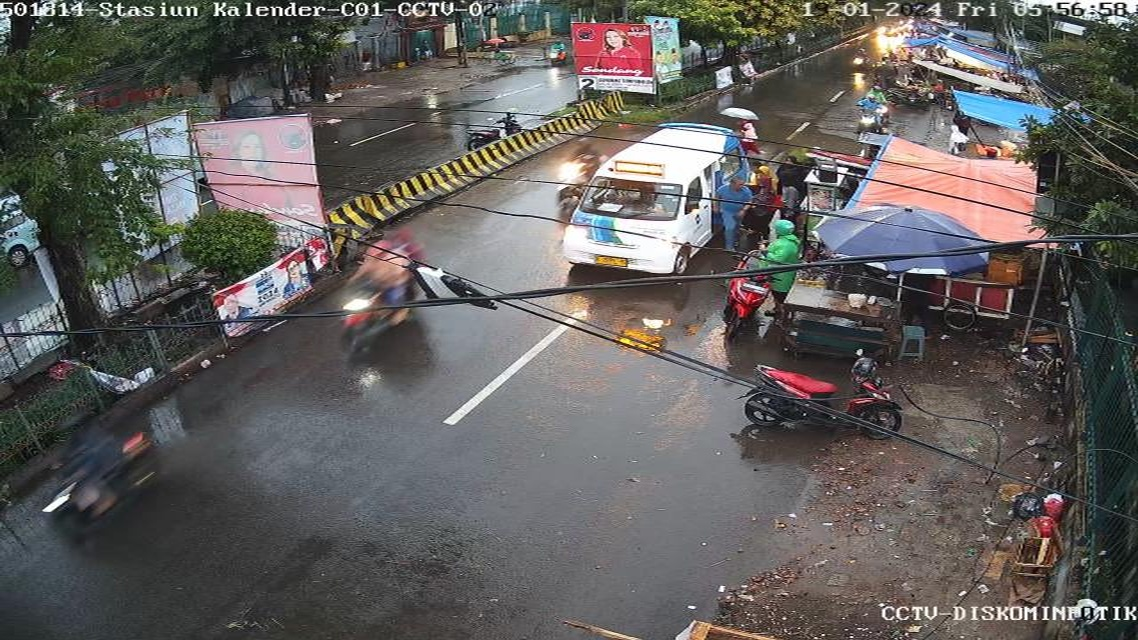Gerobak: (896, 270, 1031, 331), (798, 152, 850, 248)
